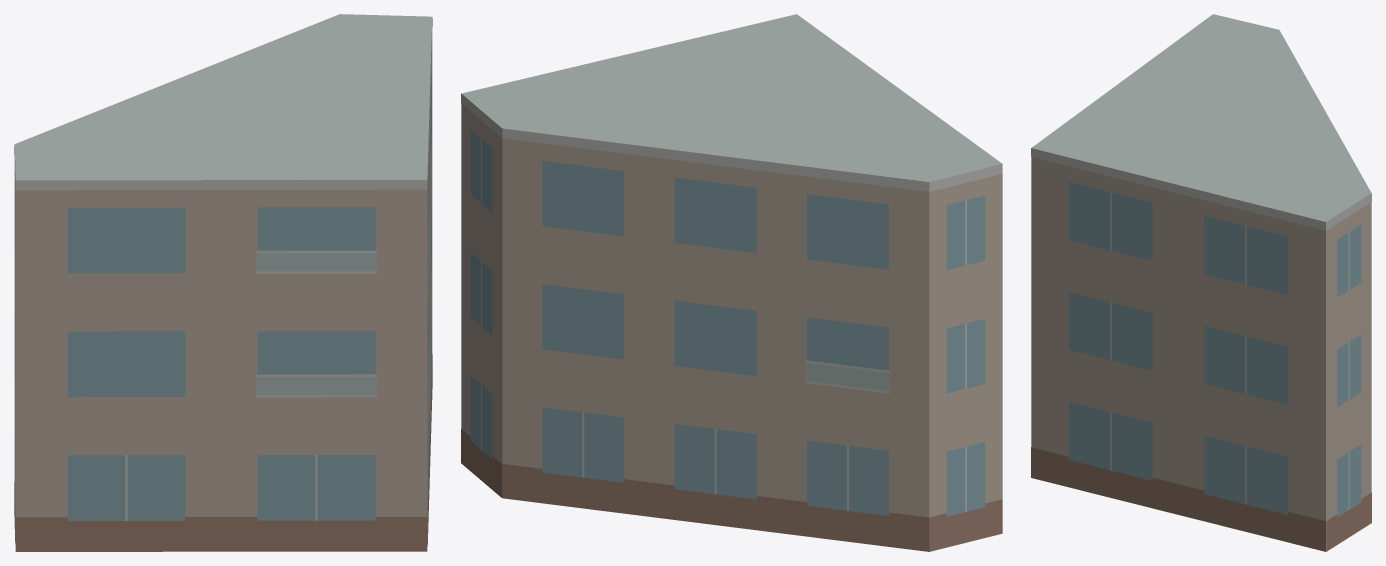
The model's file is survey-upis-32644978.glb.
3 views of the same model, side by side, from view 1: azimuth 30°, elevation 25°; view 2: azimuth 150°, elevation 25°; view 3: azimuth 270°, elevation 25° (orthographic). The views are drawn at different scales.
Parts seen in each view (by area): view 1: survey-upis-32644978.tmp; view 2: survey-upis-32644978.tmp; view 3: survey-upis-32644978.tmp.
Part boxes in pixels (<box>): survey-upis-32644978.tmp: <box>14,14,432,551</box>; survey-upis-32644978.tmp: <box>461,14,1002,551</box>; survey-upis-32644978.tmp: <box>1031,14,1371,551</box>.
Bounding box in the file's own units: 12.39 × 9.15 × 8.57.
